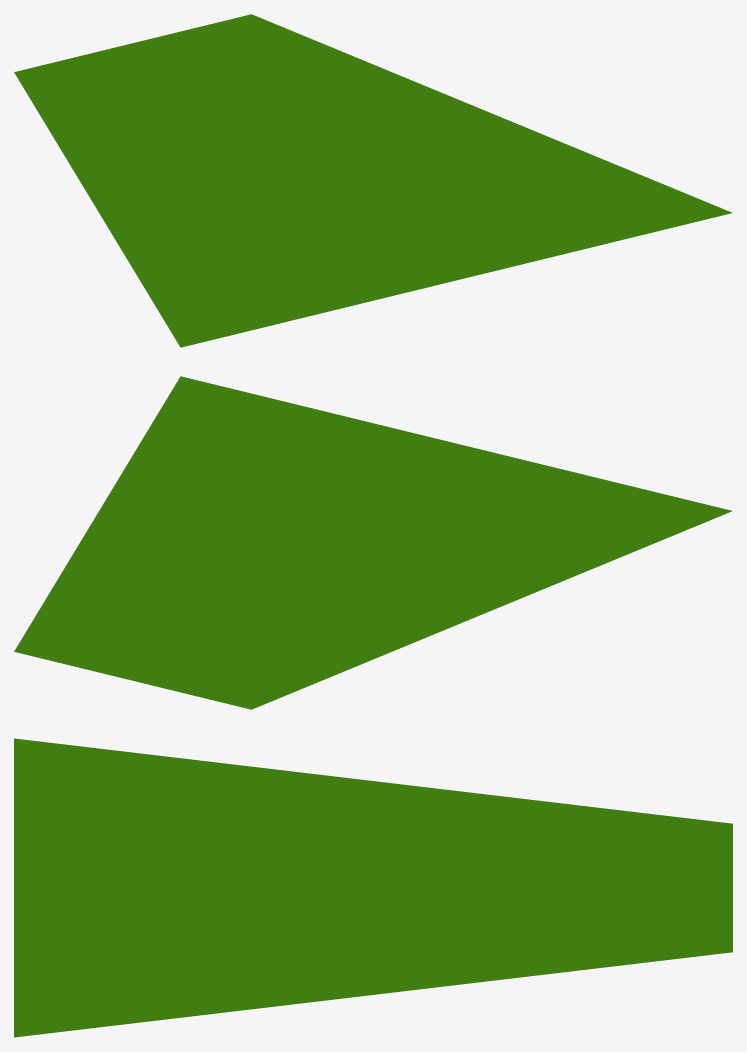
The model's file is G_Sidewalk_005_S1.fbx.
3 views of the same model, one above another, from view 1: azimuth 30°, elevation 25°; view 2: azimuth 150°, elevation 25°; view 3: azimuth 270°, elevation 25° (orthographic). The views are drawn at different scales.
Parts seen in each view (by area): view 1: S_M_Ornament_Sidewalk005_2x2x1_LOD0; view 2: S_M_Ornament_Sidewalk005_2x2x1_LOD0; view 3: S_M_Ornament_Sidewalk005_2x2x1_LOD0.
Boxes of the visible parts, bbox=[...] form: S_M_Ornament_Sidewalk005_2x2x1_LOD0: bbox=[14, 14, 732, 347]; S_M_Ornament_Sidewalk005_2x2x1_LOD0: bbox=[14, 376, 732, 709]; S_M_Ornament_Sidewalk005_2x2x1_LOD0: bbox=[14, 738, 732, 1037].
Bounding box in the file's own units: 142 × 2.34e-05 × 144.
